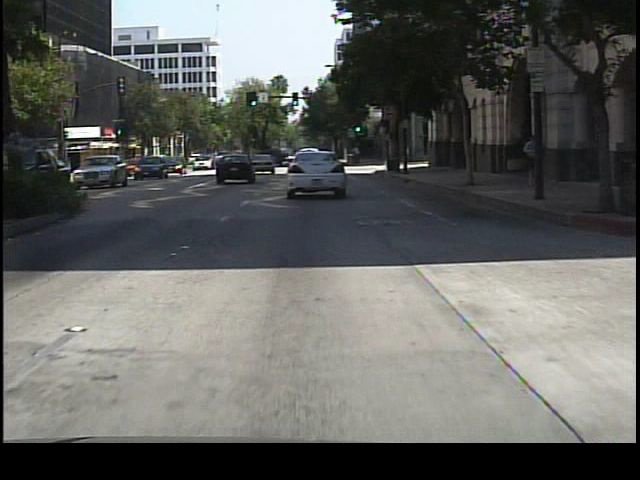person: (522, 130, 546, 193)
